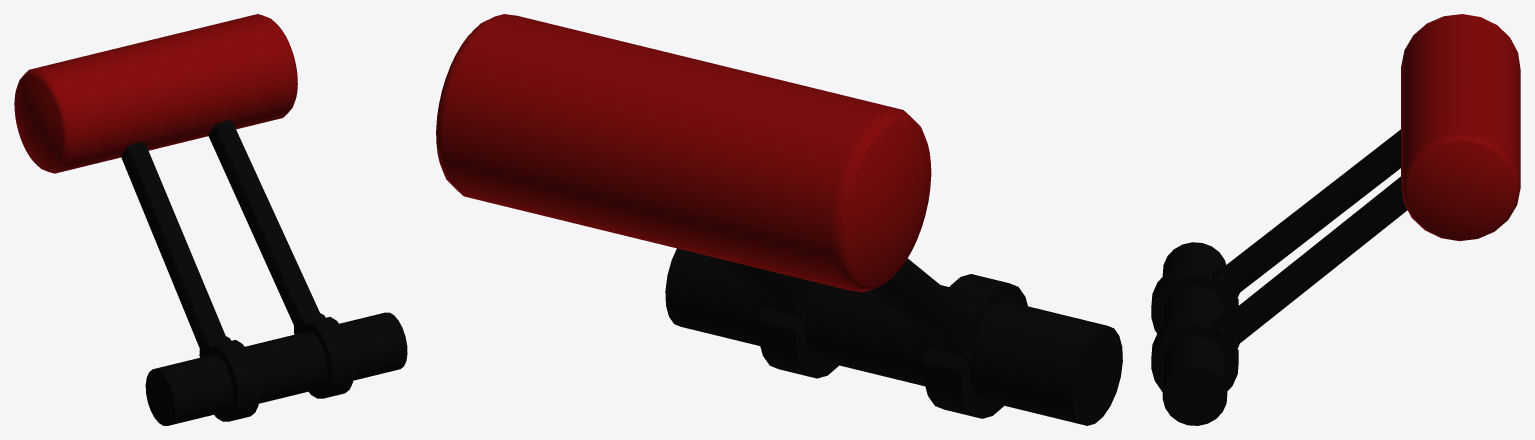
The model's file is handle.fbx.
The picture shows the model from 3 angles, left to right: view 1: azimuth 30°, elevation 25°; view 2: azimuth 150°, elevation 25°; view 3: azimuth 270°, elevation 25°; orthographic projection. The views are drawn at different scales.
Visible parts, largest first — view 1: pCylinder4; view 2: pCylinder4; view 3: pCylinder4.
Part boxes in pixels (x1,y1,x2,y2): pCylinder4: (14, 14, 407, 425); pCylinder4: (436, 14, 1122, 425); pCylinder4: (1151, 14, 1520, 425).
Bounding box in the file's own units: 0.00691 × 0.00716 × 0.00798.
